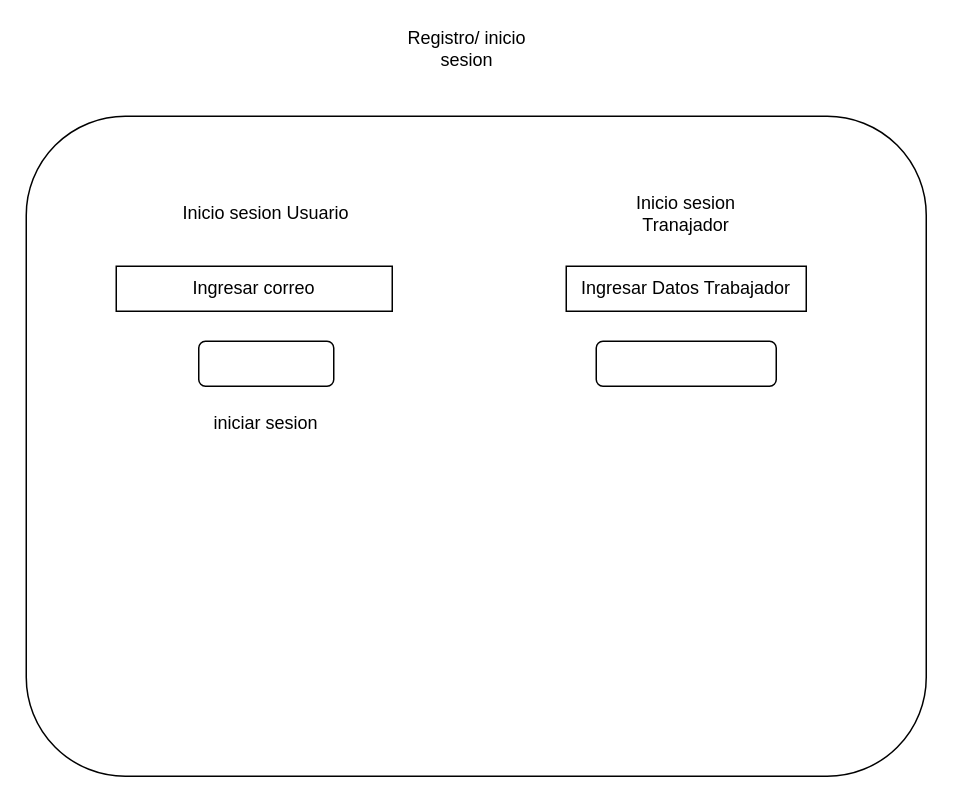
This 953x803 diagram has some shape labels left out. The centre of each missing label's shape, as x and y in pixels:
"Crear Cuenta" belongs at (x=265, y=363).
"Iniciar como Trabajador" belongs at (x=685, y=363).
